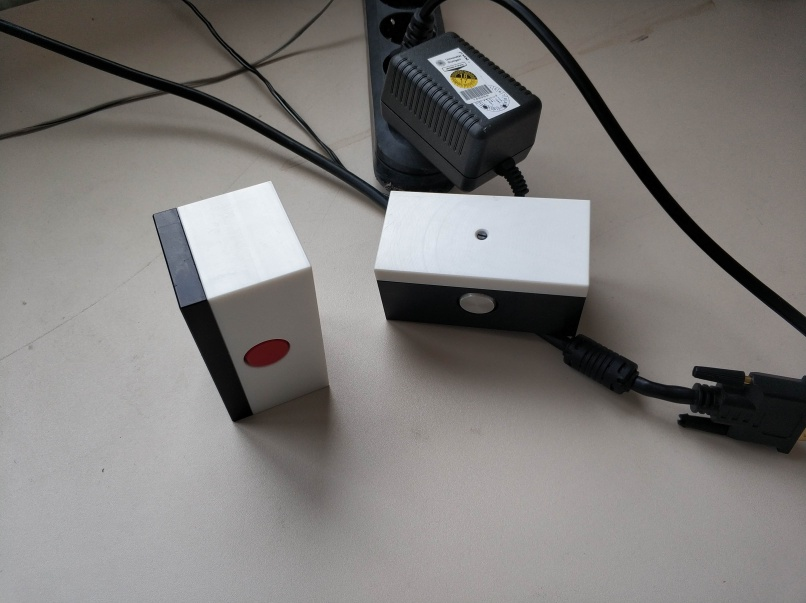black+white+red: (149, 177, 330, 424)
white+black+silver: (371, 189, 594, 339)
